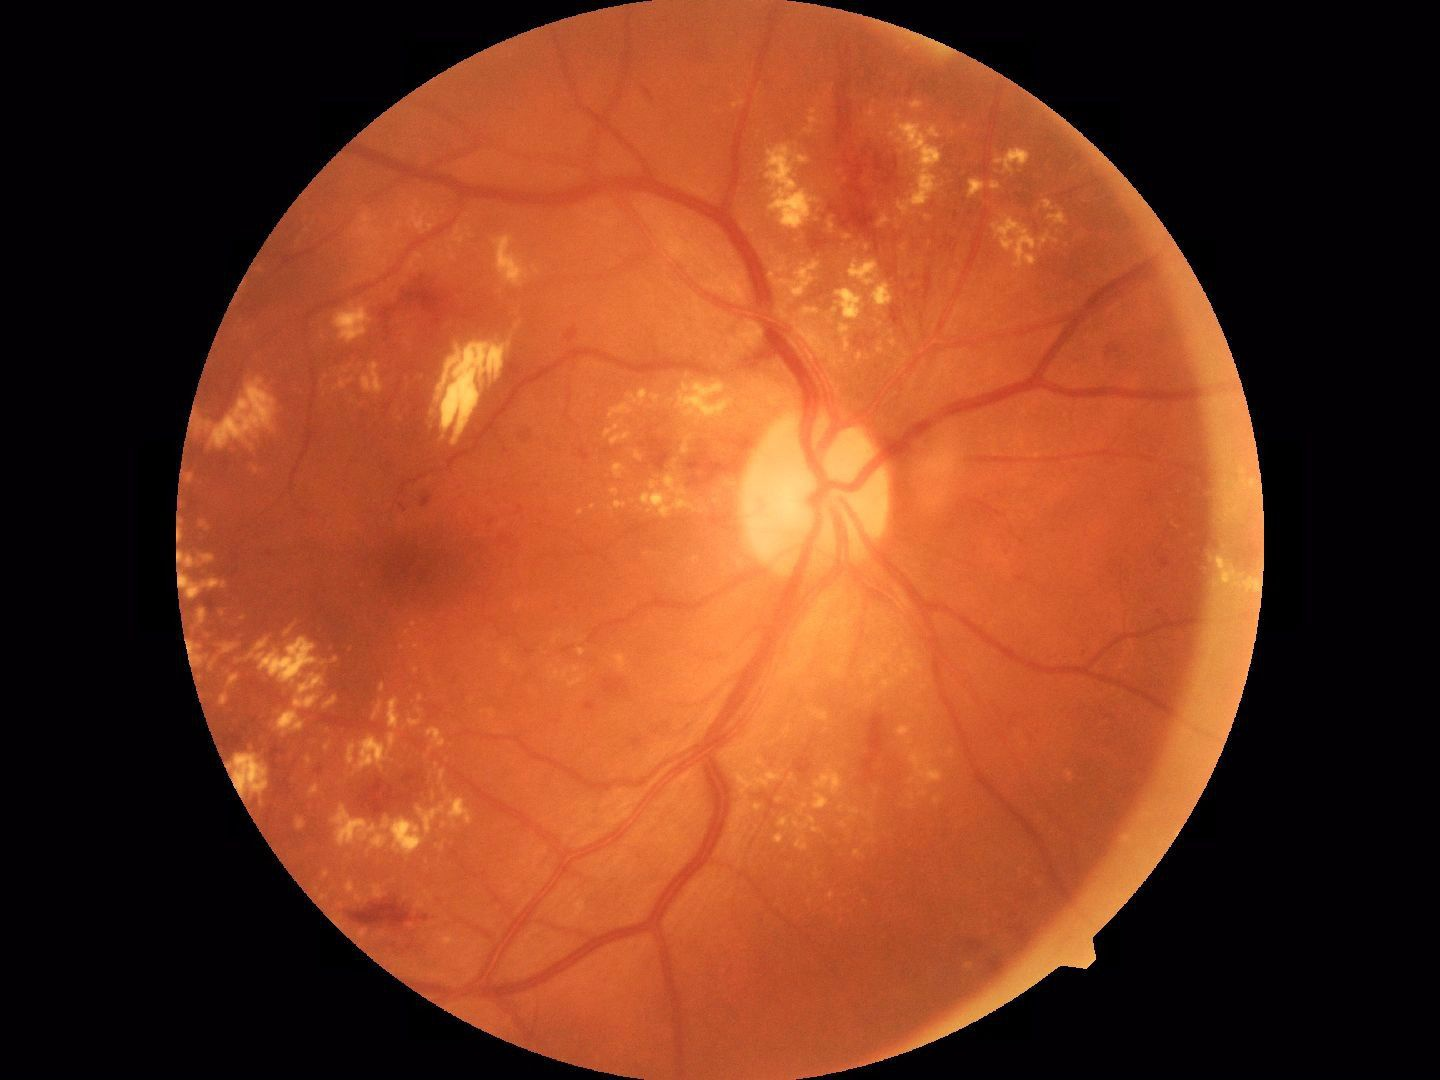Arterioles: (489, 762, 675, 1001)
Exudates: (769, 147, 905, 336), (226, 621, 351, 779), (426, 336, 503, 438)
Optic-Disc: (751, 404, 904, 581)
